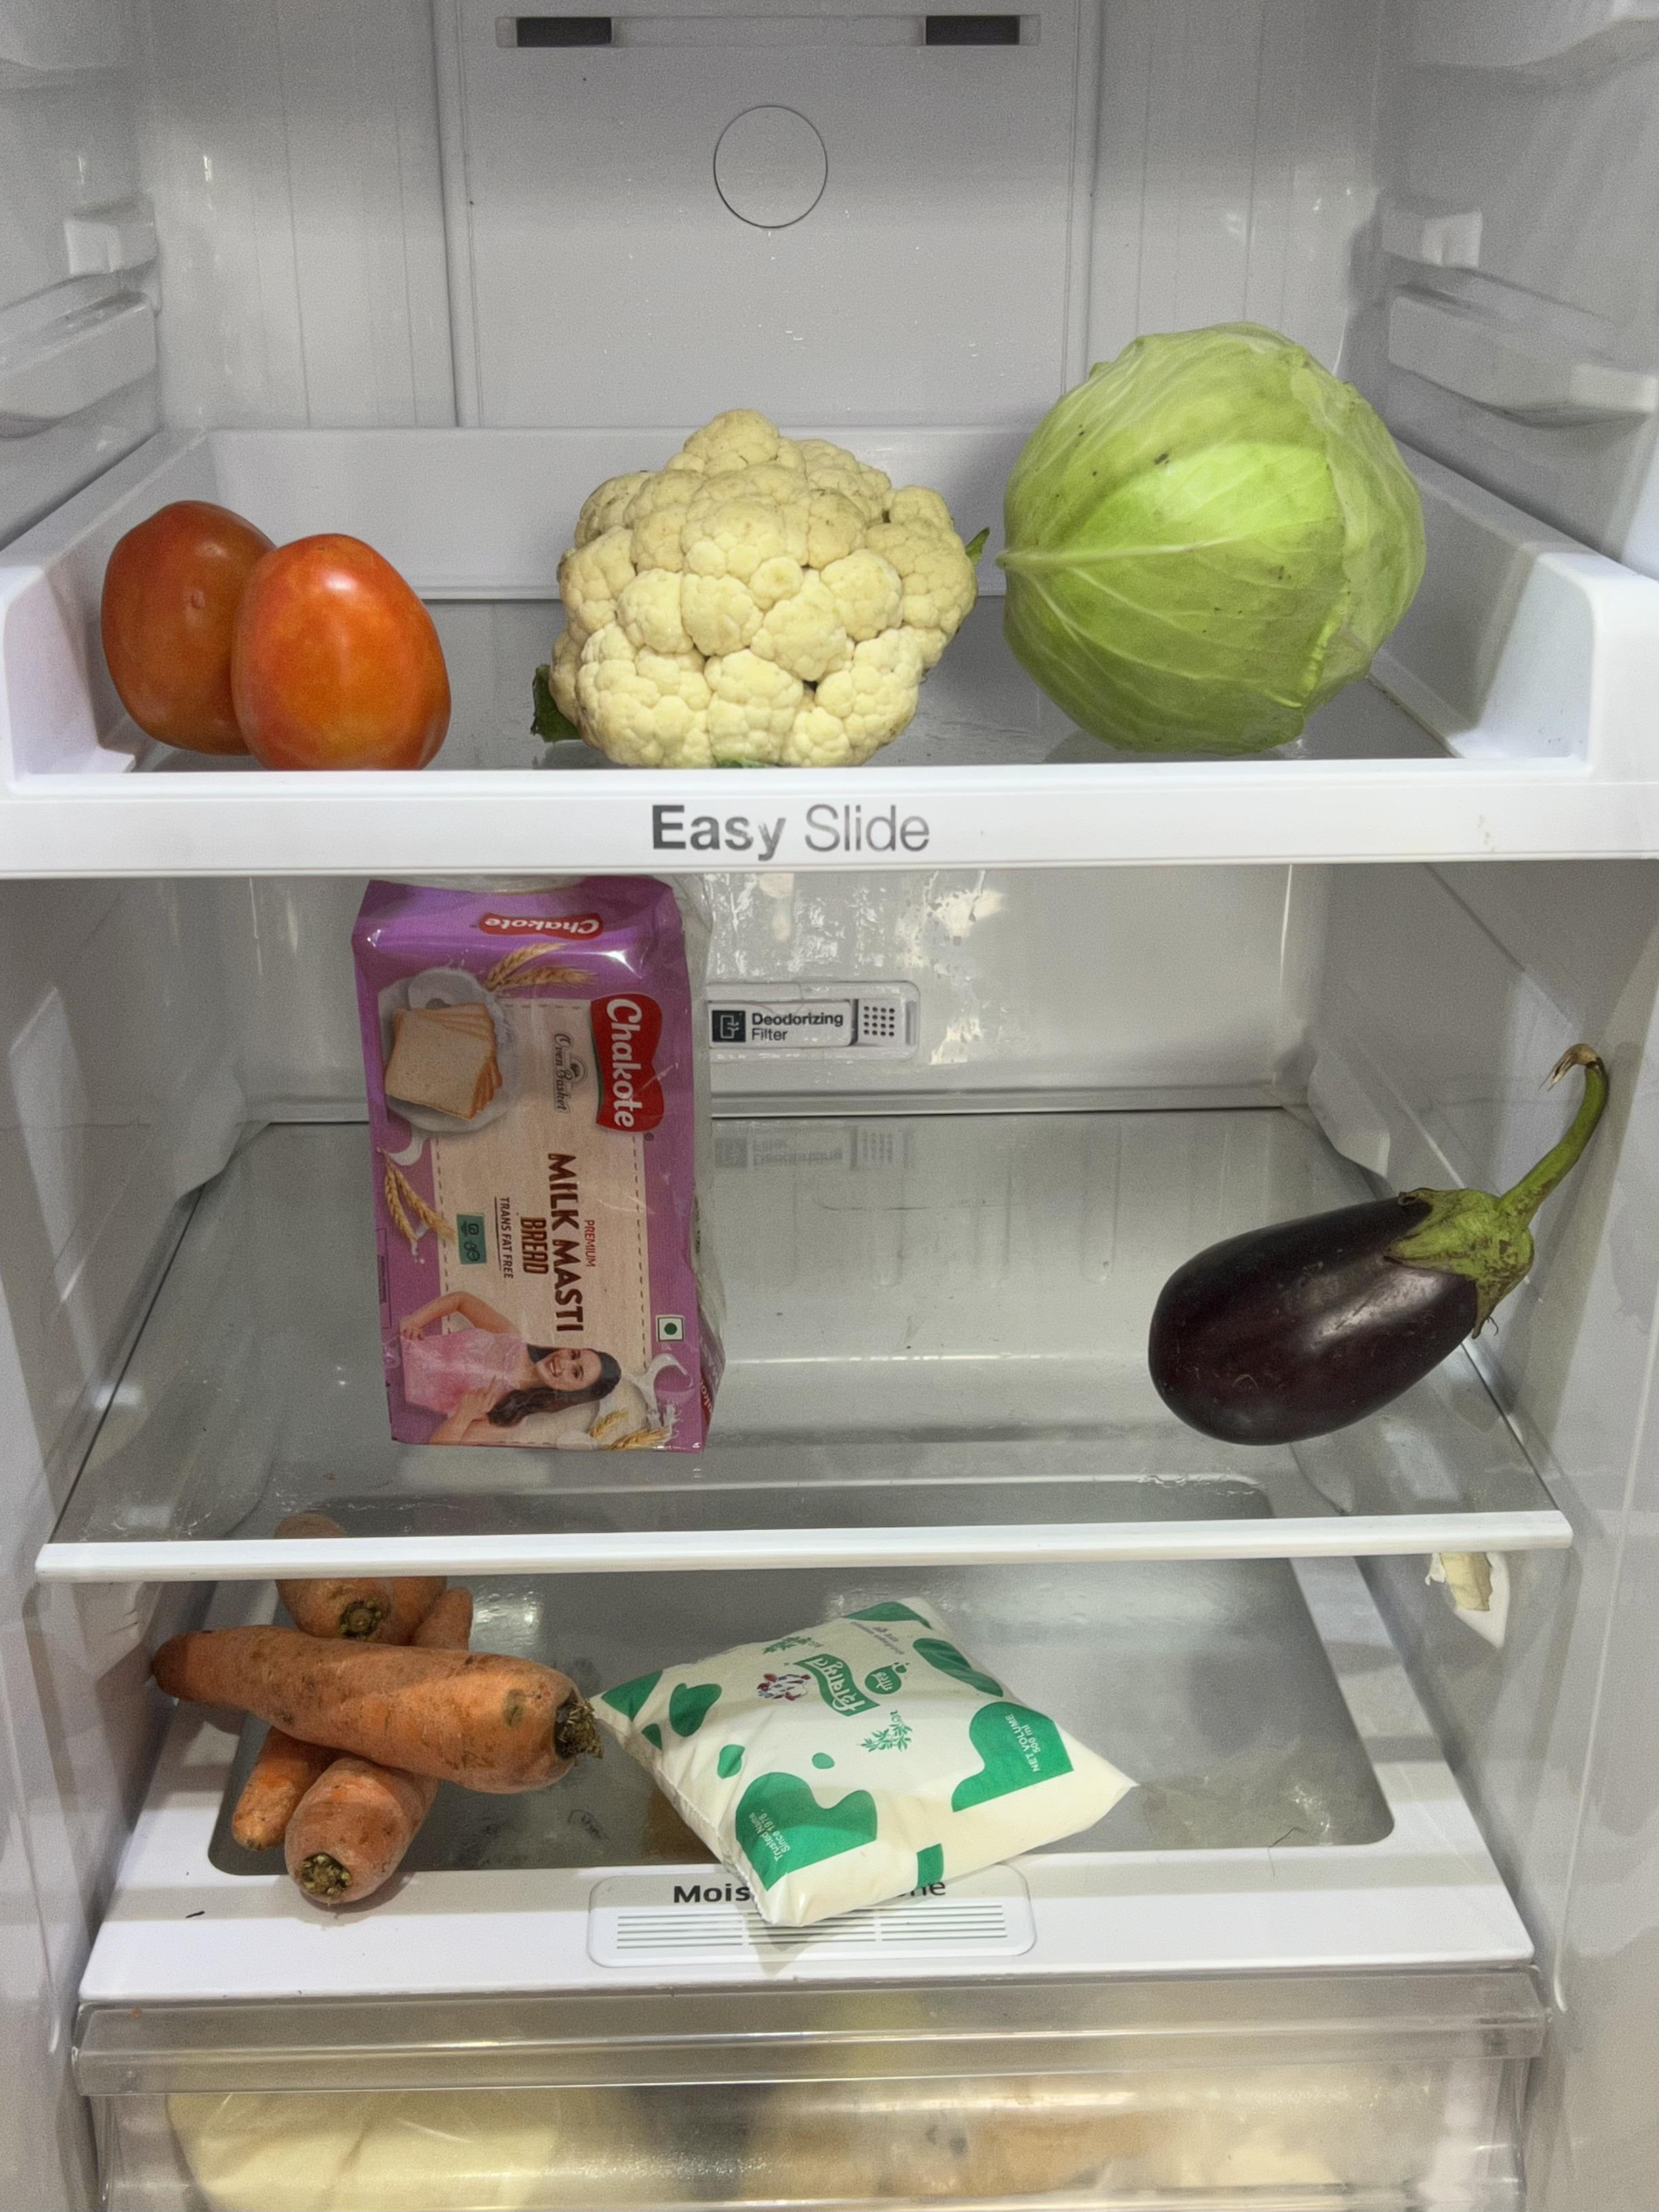bread: (350, 878, 718, 1456)
bringal: (1138, 1172, 1552, 1440)
cabbage: (1006, 329, 1425, 743)
carrots: (142, 1569, 597, 1899)
cauliflower: (542, 410, 972, 764)
milk: (606, 1594, 1134, 1924)
tomato: (95, 491, 451, 762)
